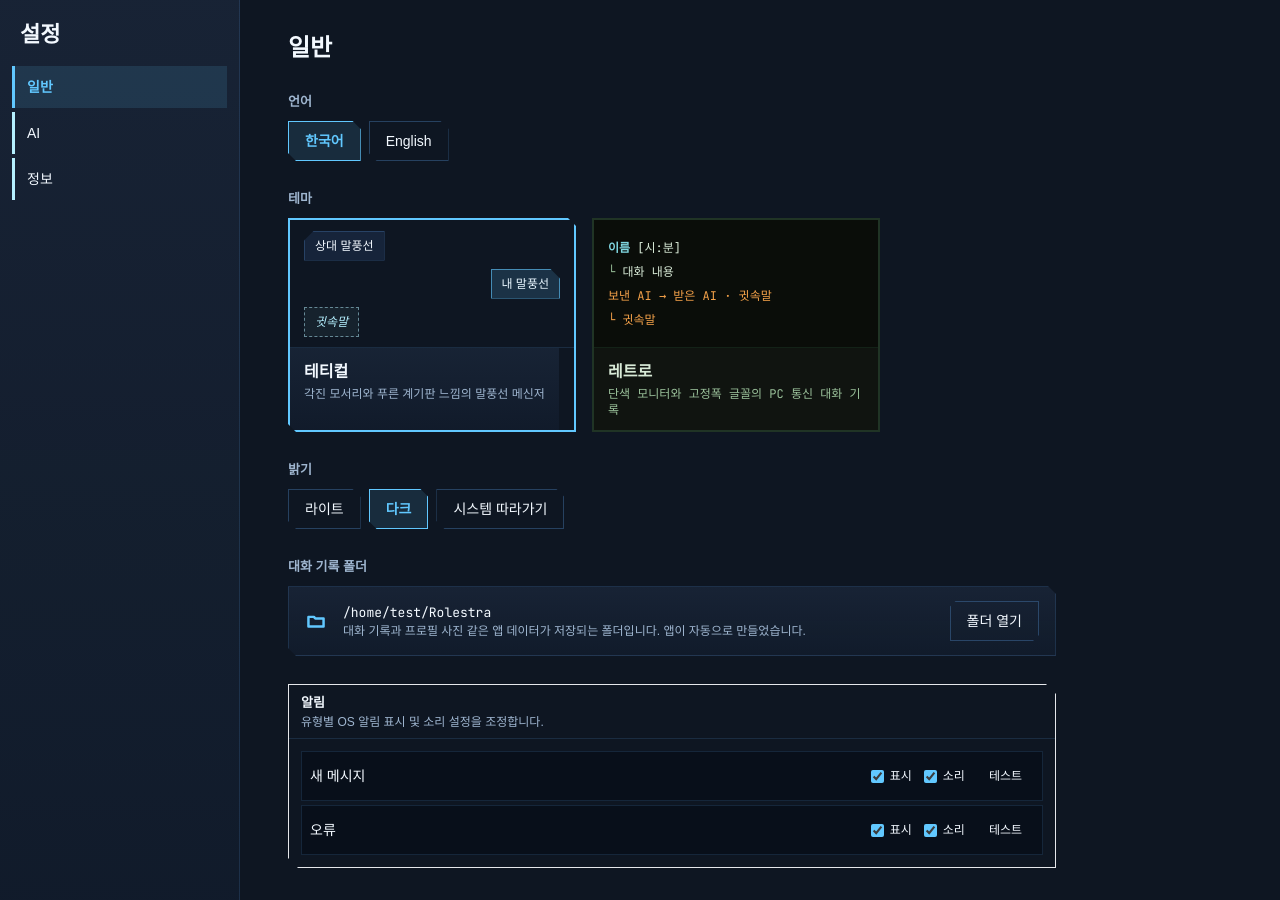
Scenario: SettingsTabs — AI add entry point › shows "AI 추가" in the AI tab and not in the general tab
This screenshot has width=1280, height=900.
Expected: the element with test id "settings-tab-general" is shown, [288, 32, 1056, 868]
Click the tab with test id "settings-tabs-trigger".
click(120, 133)  # box [12, 112, 227, 154]
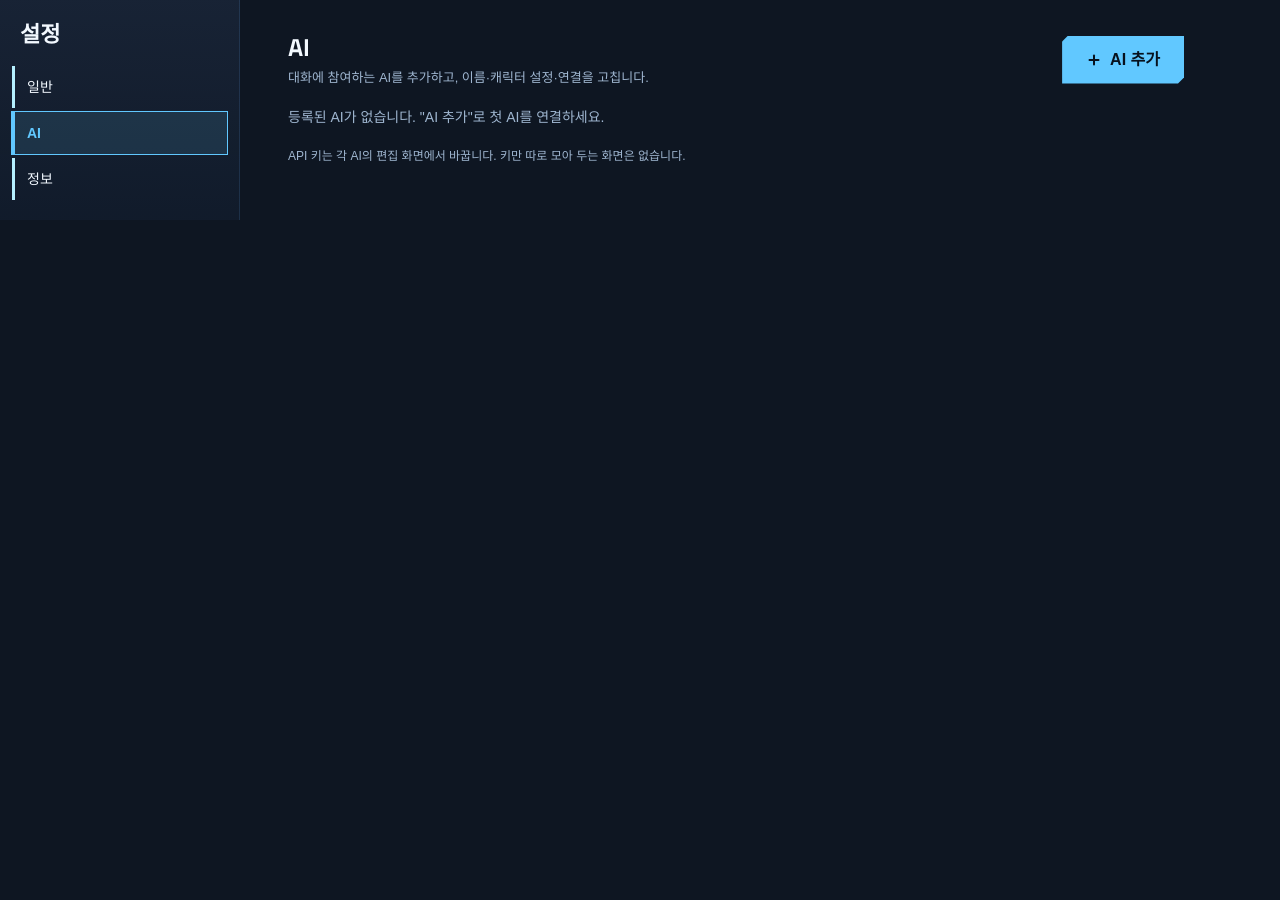
Expected: the button with test id "settings-ai-add" is shown, [1062, 36, 1184, 84]
